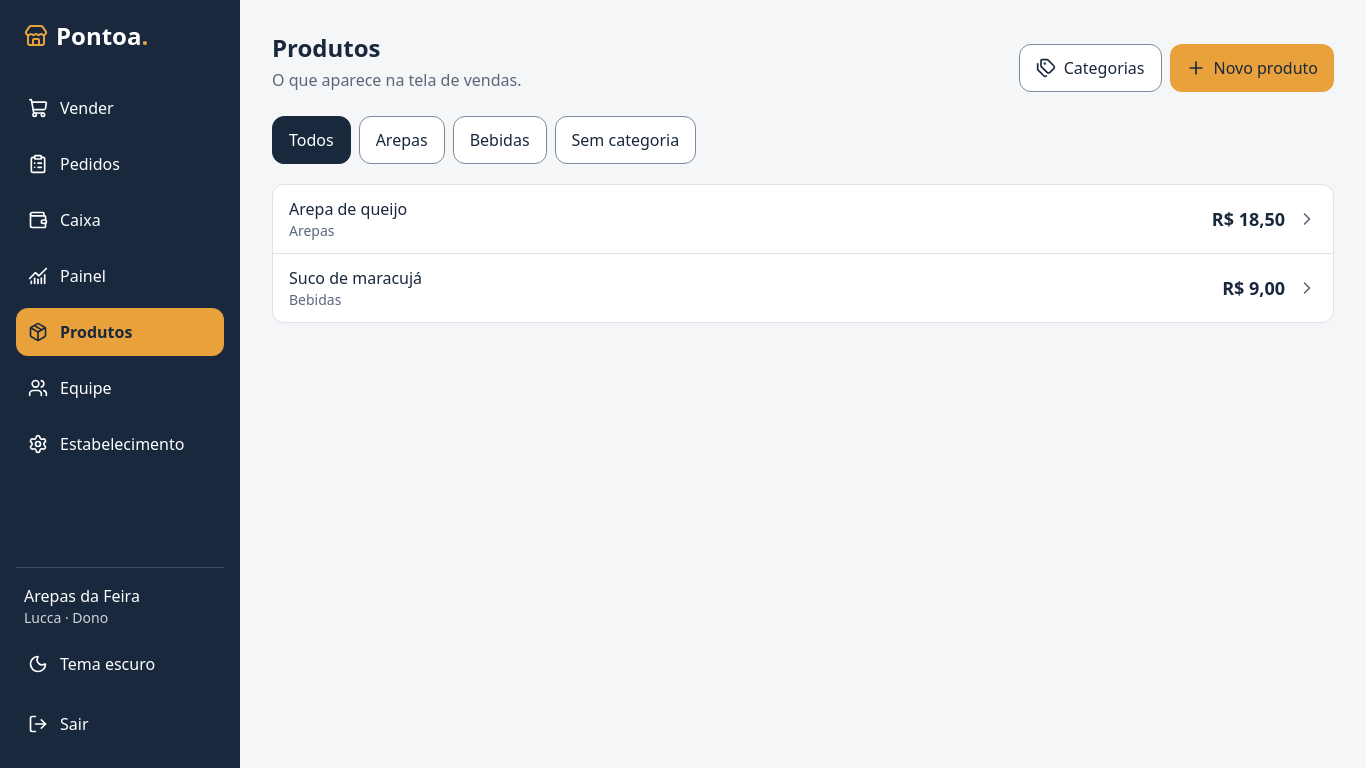
Test: ProductsPage › sends only the changed fields when editing
Click the button with aria-label "Editar Arepa de queijo": (348, 209) [273,185,1333,253]
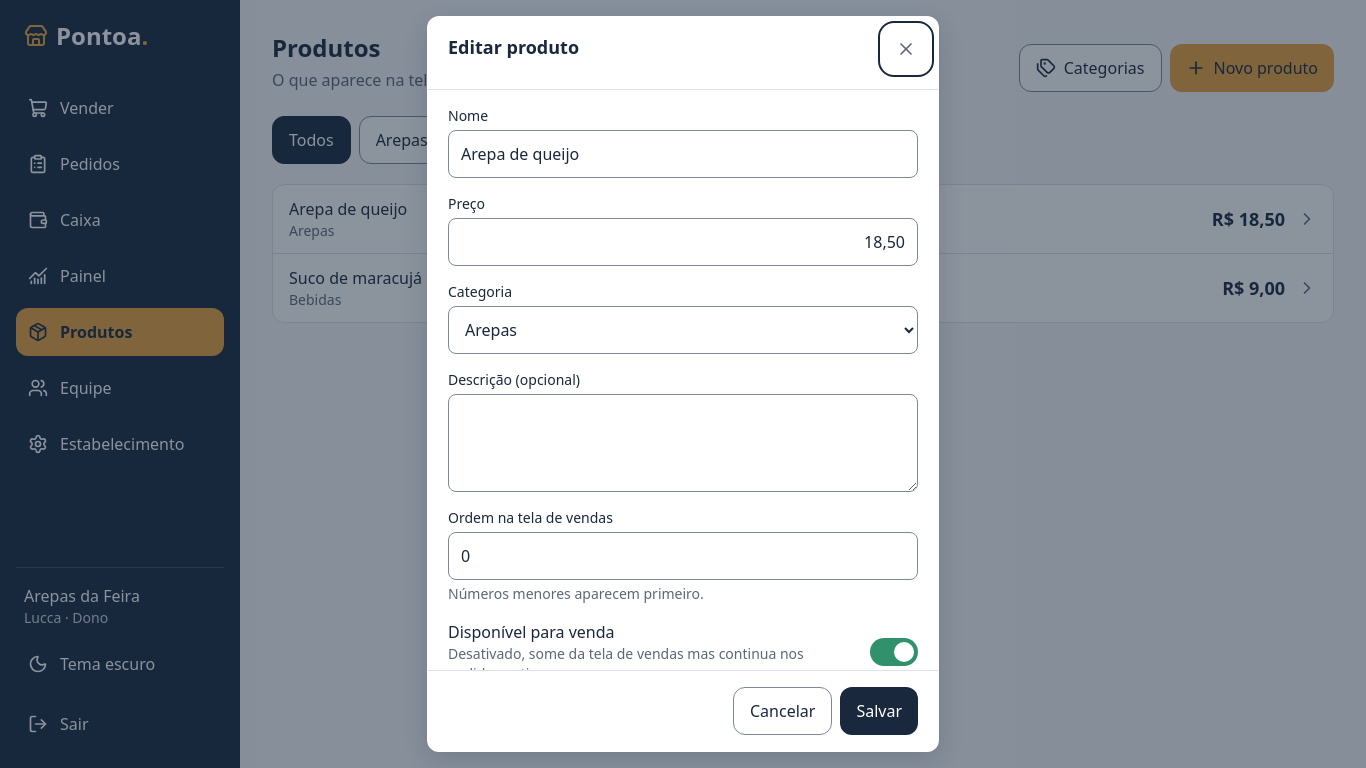
Check: the field labelled "Preço" holds "18,50"
Replace the text in the field labelled "Preço" with "20": (683, 242) [448,218,918,266]
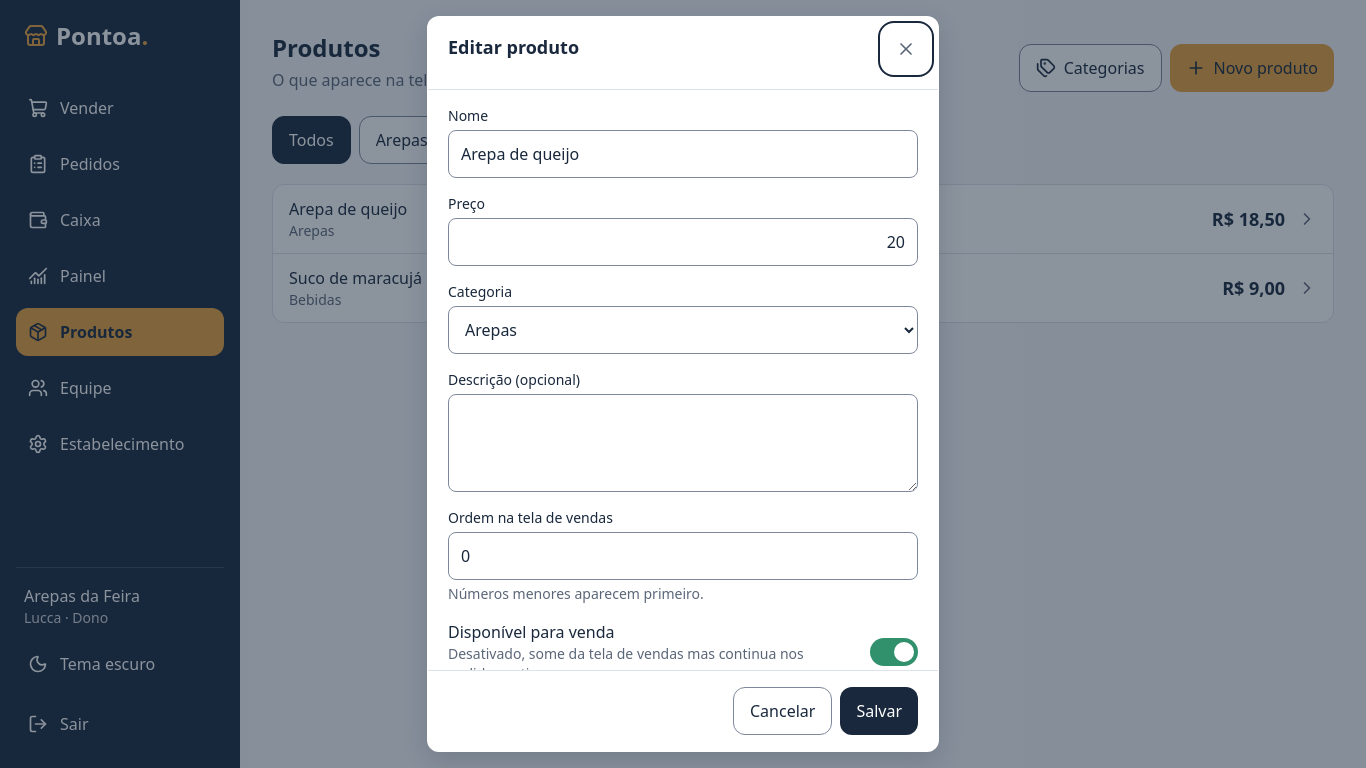
Click the switch labelled "Disponível para venda": (894, 652) [870,638,918,666]
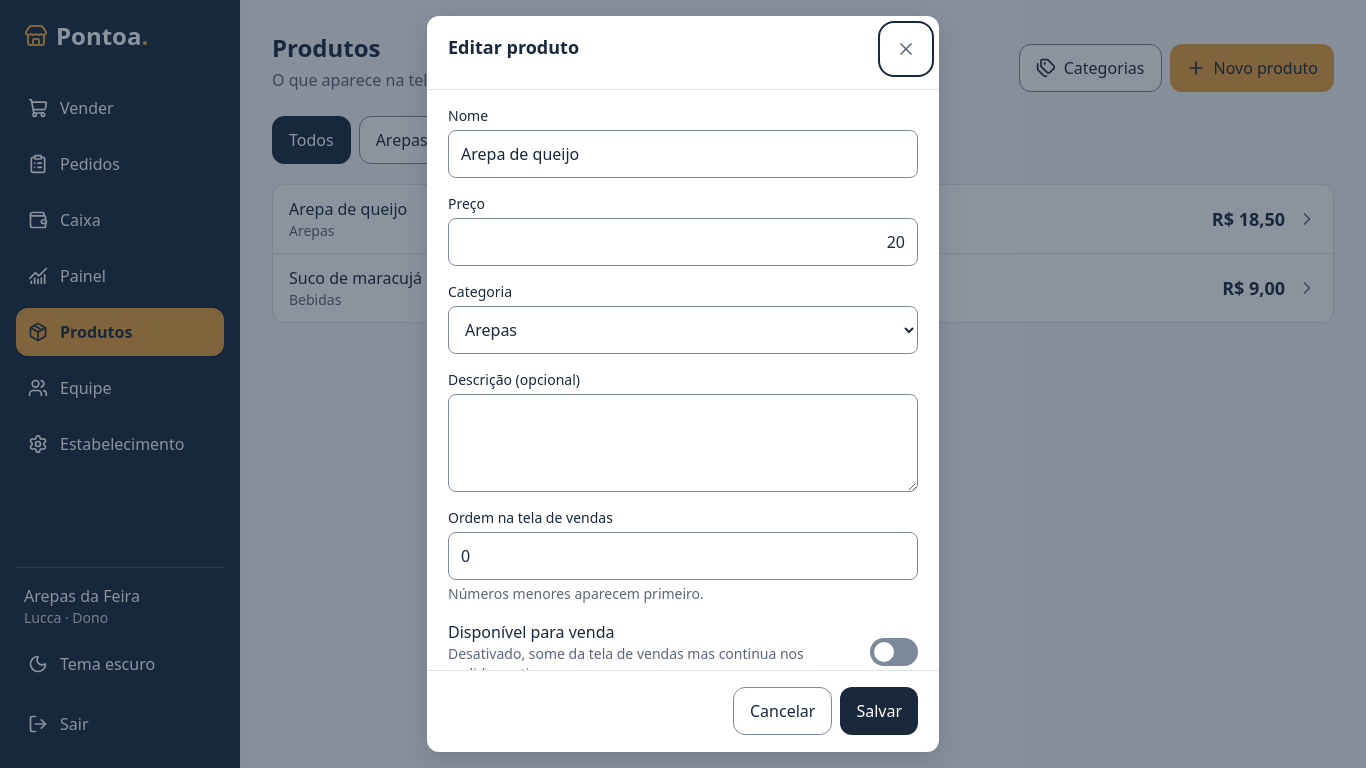
Click the button "Salvar": (879, 711) [840,687,918,735]
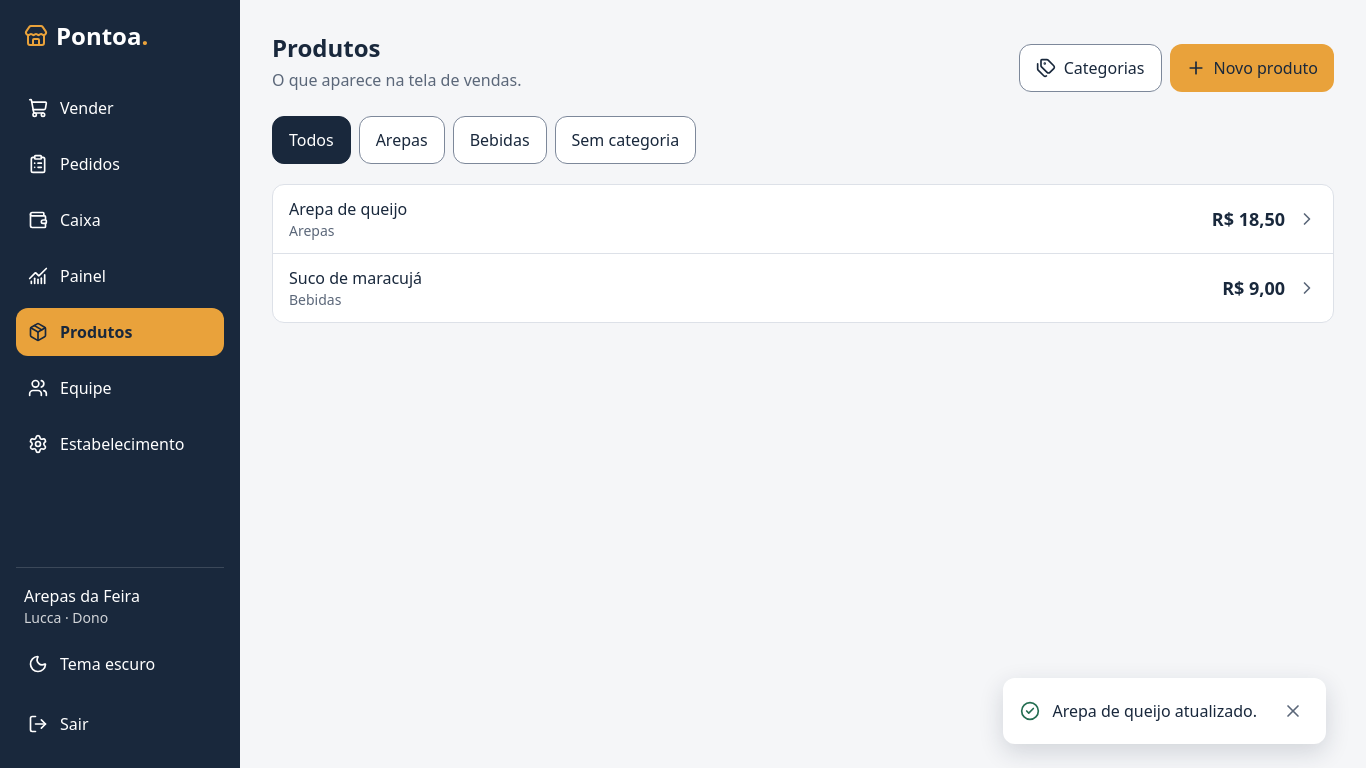
Check: the text "Arepa de queijo atualizado." is shown, box [1052,700,1257,722]
